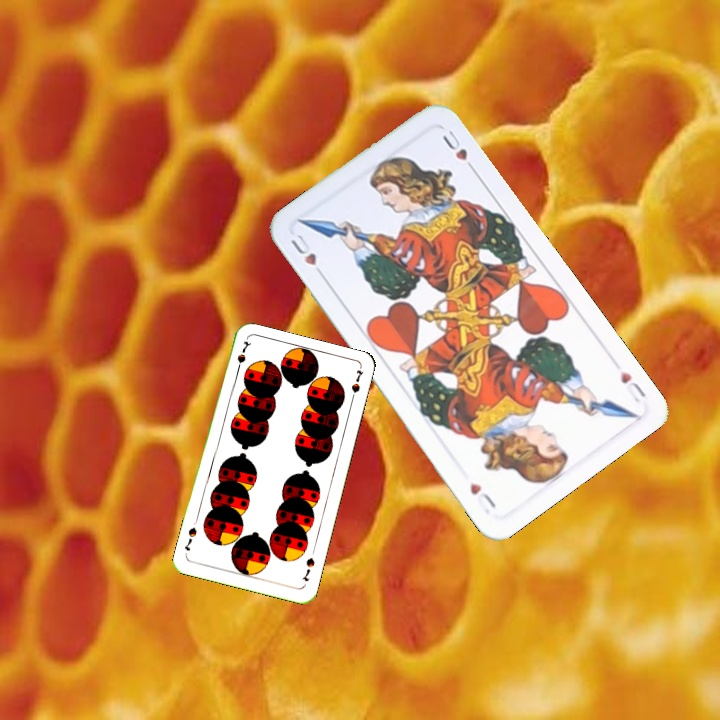HU: (286, 229, 328, 282), (616, 367, 649, 405)
S7: (232, 337, 251, 376), (298, 553, 317, 584)
